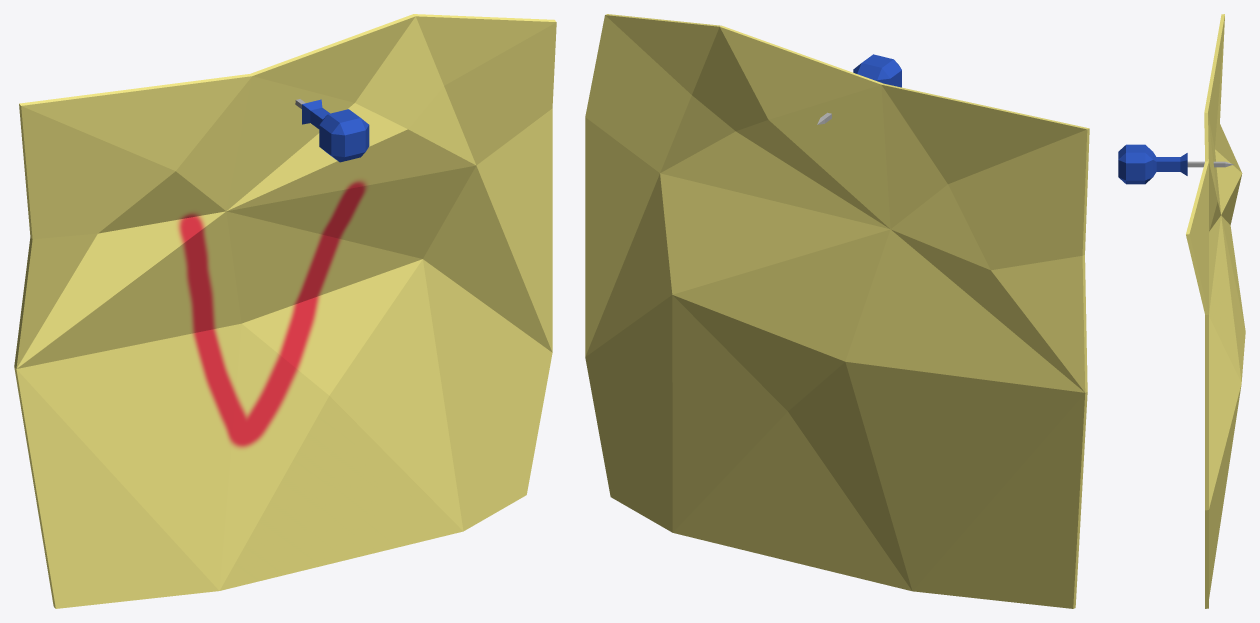
File: Paper Letter V.fbx
The picture shows the model from 3 angles, left to right: view 1: azimuth 30°, elevation 25°; view 2: azimuth 150°, elevation 25°; view 3: azimuth 270°, elevation 25°; orthographic projection. The views are drawn at different scales.
Parts seen in each view (by area): view 1: Papier, Punaise; view 2: Papier, Punaise; view 3: Papier, Punaise.
Boxes of the visible parts, x1=… form: Papier: x1=14, y1=14, x2=556, y2=608; Punaise: x1=295, y1=99, x2=369, y2=162; Papier: x1=585, y1=14, x2=1089, y2=608; Punaise: x1=817, y1=54, x2=901, y2=124; Papier: x1=1186, y1=14, x2=1245, y2=608; Punaise: x1=1118, y1=144, x2=1233, y2=184.
Bounding box in the file's own units: 208 × 200 × 54.89.
